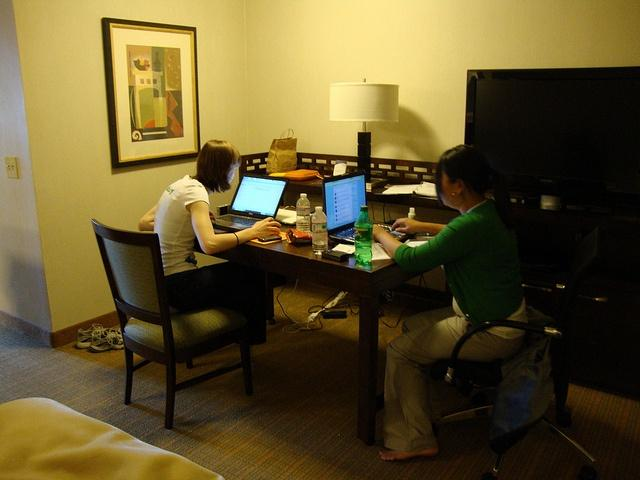Kursi: (91, 218, 255, 429)
